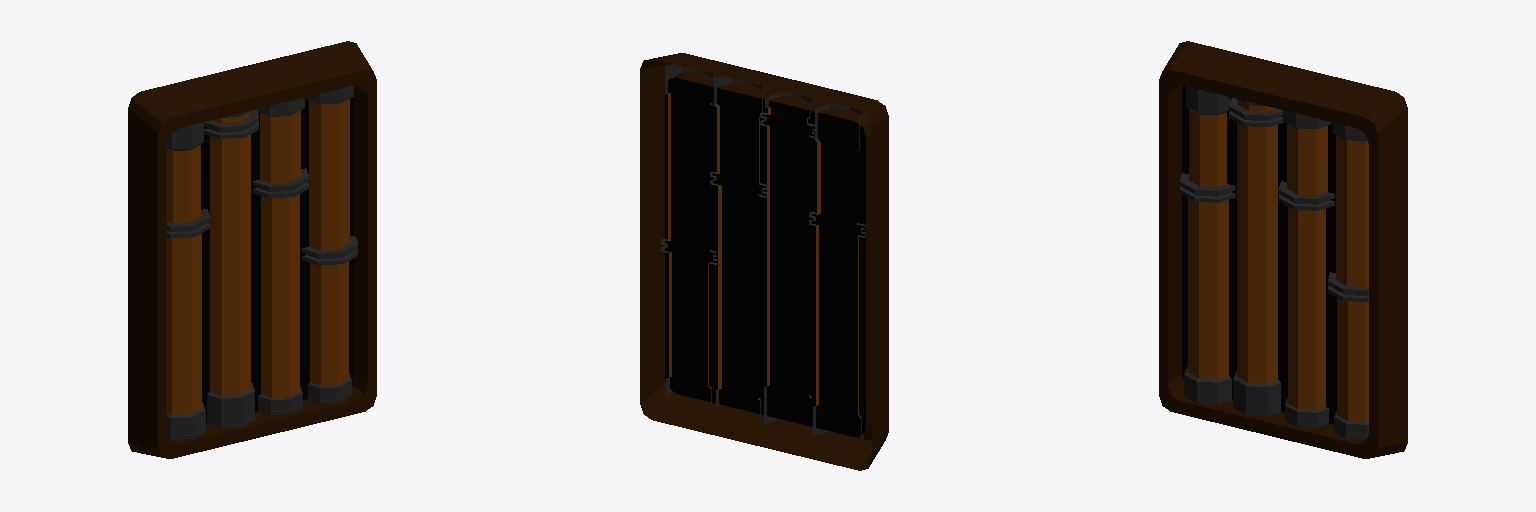
Rendered from Details_Pipes_Medium.obj.
3 renders of one model, left to right at view 1: azimuth 30°, elevation 25°; view 2: azimuth 150°, elevation 25°; view 3: azimuth 330°, elevation 25°, orthographic.
Visible parts, largest first — view 1: Details_Pipes_Medium_Plane.060; view 2: Details_Pipes_Medium_Plane.060; view 3: Details_Pipes_Medium_Plane.060.
Part boxes in pixels (left/top/right/bottom): Details_Pipes_Medium_Plane.060: left=128, top=41, right=376, bottom=458; Details_Pipes_Medium_Plane.060: left=640, top=53, right=888, bottom=470; Details_Pipes_Medium_Plane.060: left=1159, top=41, right=1407, bottom=458.
Bounding box in the file's own units: 0.5143 × 0.7659 × 0.0932.